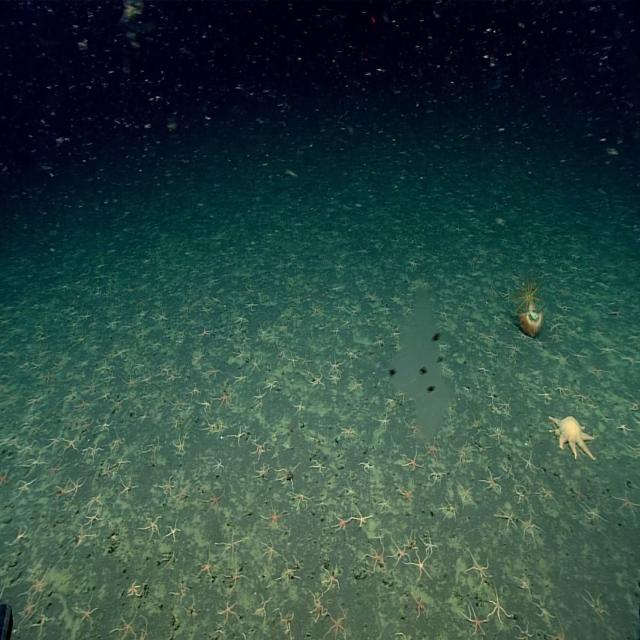brittle-stars: (486, 592, 511, 626), (580, 497, 610, 525), (466, 550, 491, 583), (364, 537, 386, 572), (581, 588, 608, 616), (218, 531, 243, 561), (260, 502, 285, 532), (111, 613, 138, 640), (613, 490, 640, 517), (463, 602, 485, 635), (273, 462, 299, 489), (326, 610, 348, 640), (410, 551, 432, 581), (17, 595, 37, 627), (321, 564, 341, 596), (28, 567, 50, 596), (74, 598, 98, 624), (481, 466, 502, 495), (308, 589, 326, 621), (390, 537, 410, 565), (536, 595, 554, 626), (216, 597, 239, 621), (140, 513, 162, 537), (117, 473, 137, 499), (521, 514, 540, 541), (13, 476, 36, 498), (71, 525, 94, 547), (350, 504, 372, 526), (24, 450, 44, 474), (204, 489, 224, 513), (496, 506, 516, 530), (200, 550, 216, 579), (68, 476, 87, 500), (424, 438, 442, 463), (292, 490, 314, 510), (440, 499, 459, 522), (401, 451, 420, 474), (166, 516, 181, 544), (84, 440, 103, 462), (332, 511, 350, 534), (520, 450, 538, 473), (261, 537, 277, 562), (283, 557, 298, 583), (412, 594, 428, 618), (398, 481, 414, 505), (310, 458, 329, 478), (144, 437, 162, 458), (456, 482, 472, 505), (18, 439, 38, 457), (173, 431, 187, 456), (86, 493, 104, 512), (553, 378, 570, 398), (45, 462, 62, 482), (108, 432, 125, 452), (114, 454, 131, 474), (46, 432, 62, 453), (160, 475, 176, 496), (375, 412, 391, 433), (175, 485, 190, 507), (215, 391, 232, 409), (252, 440, 267, 460), (340, 423, 360, 438), (85, 509, 101, 527), (206, 364, 222, 382), (230, 428, 246, 446), (457, 442, 468, 468), (488, 395, 502, 415), (422, 535, 436, 555), (555, 350, 571, 367), (348, 375, 364, 392), (491, 424, 506, 442), (255, 462, 270, 480), (128, 580, 142, 599), (25, 394, 41, 410), (199, 397, 213, 415), (597, 343, 615, 357), (328, 354, 341, 373), (124, 372, 137, 391), (540, 486, 556, 501), (54, 484, 70, 499), (171, 395, 185, 412), (84, 377, 99, 392), (506, 340, 520, 356), (64, 436, 78, 452), (264, 378, 278, 394), (358, 456, 372, 472), (548, 320, 564, 334), (379, 494, 391, 512), (570, 349, 588, 361), (479, 331, 494, 345), (326, 371, 340, 386), (188, 383, 202, 398), (294, 397, 305, 416), (311, 372, 324, 388), (202, 420, 218, 433), (344, 346, 357, 362), (572, 391, 589, 403), (233, 372, 247, 386), (233, 311, 247, 325), (106, 316, 120, 330), (573, 487, 586, 502), (200, 325, 213, 340), (100, 418, 112, 434), (115, 342, 126, 359), (539, 386, 552, 400), (276, 320, 289, 334), (101, 462, 114, 476), (252, 355, 262, 373), (257, 324, 269, 339), (276, 345, 288, 360), (157, 308, 168, 324), (76, 399, 89, 412), (287, 352, 299, 366), (140, 372, 153, 384), (213, 458, 224, 472), (300, 354, 311, 368), (236, 349, 247, 363), (160, 364, 172, 376), (136, 308, 148, 320), (346, 484, 356, 498), (478, 364, 489, 376), (254, 390, 264, 403), (244, 301, 257, 311), (500, 398, 511, 409), (310, 304, 320, 316), (334, 301, 344, 313), (390, 292, 400, 304), (343, 317, 351, 329)
